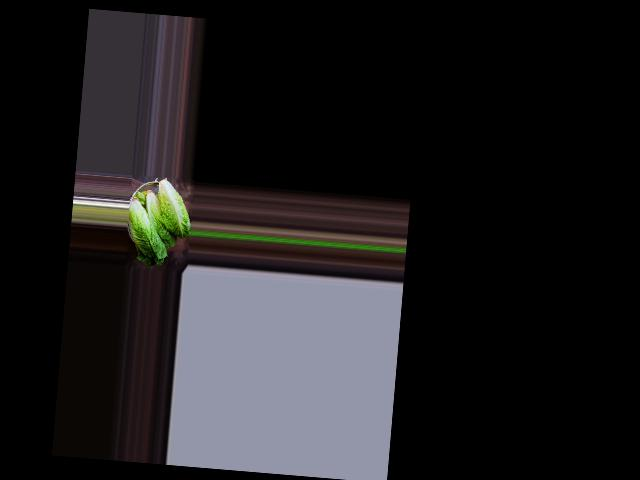lettuce: (124, 191, 173, 266)
